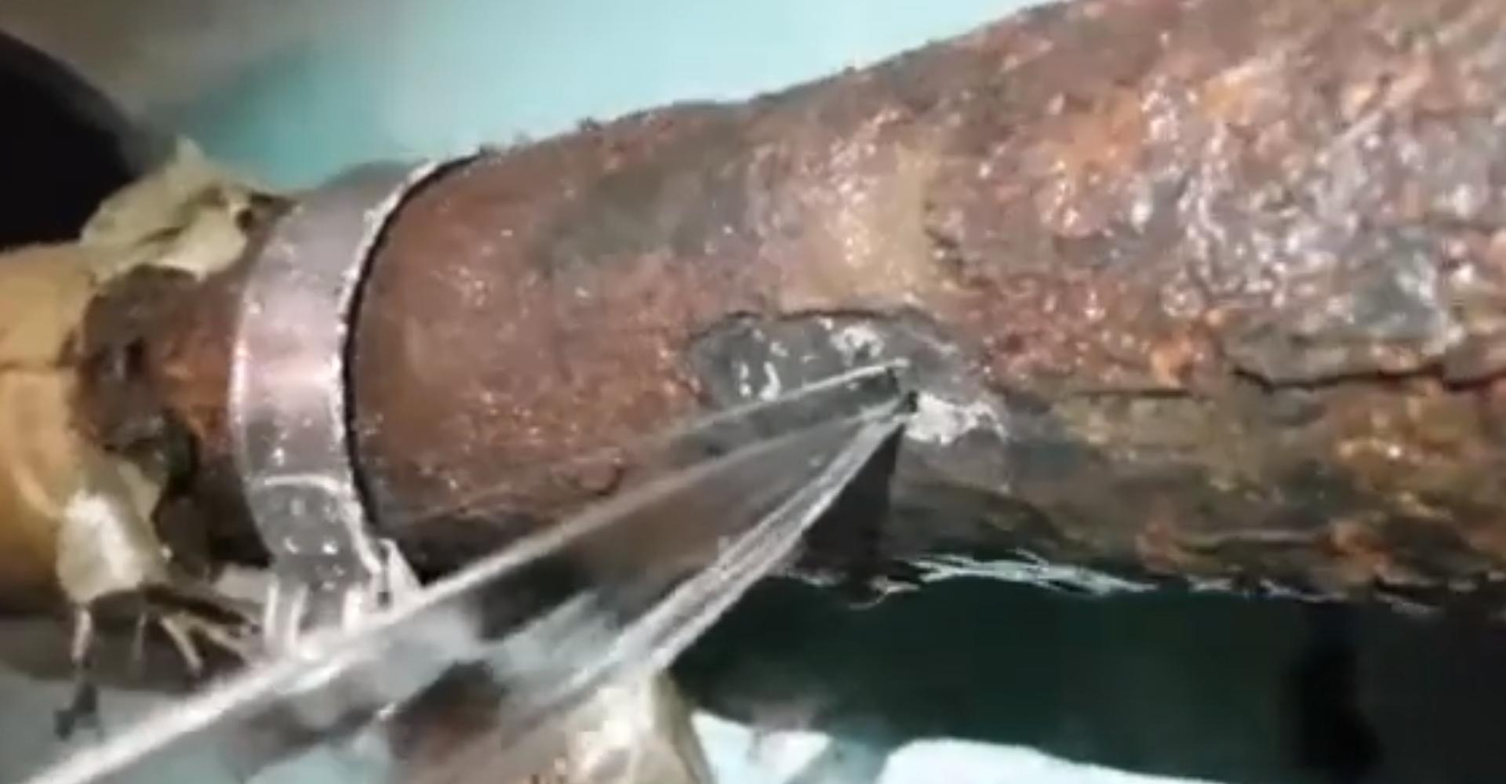pipe burst: (29, 347, 929, 784)
